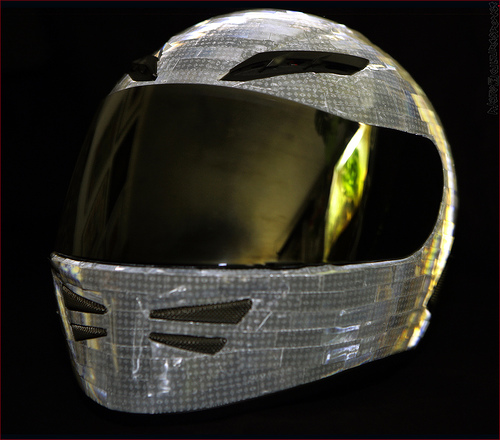helmet: (83, 27, 456, 387)
